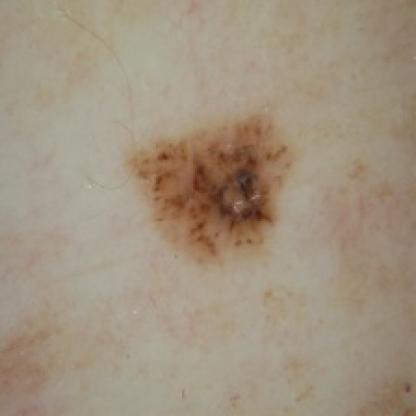malignant: (121, 85, 299, 262)
